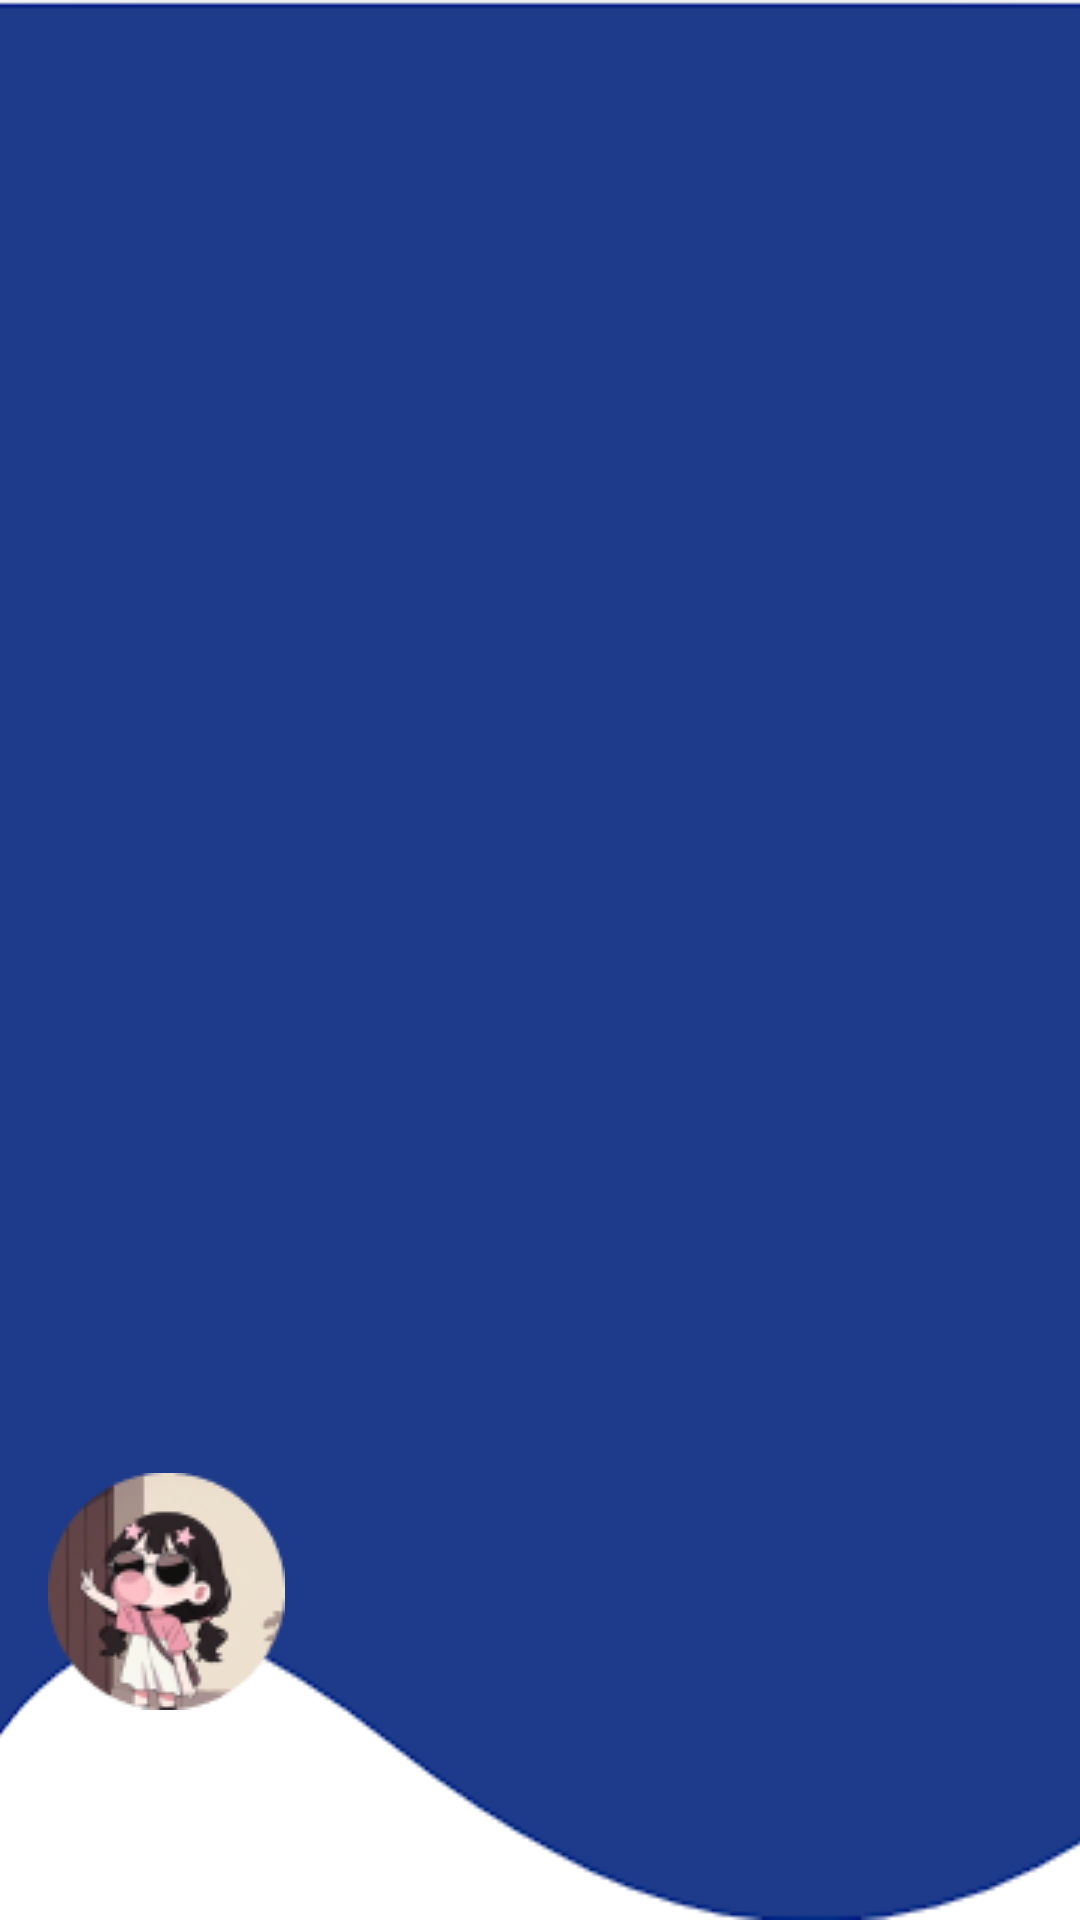

Named icons in this screenshot (1080 × 1920) and their bounding boxes, bbox=[x1, y1, x2, y2]:
profil: bbox=[48, 1473, 285, 1710]
